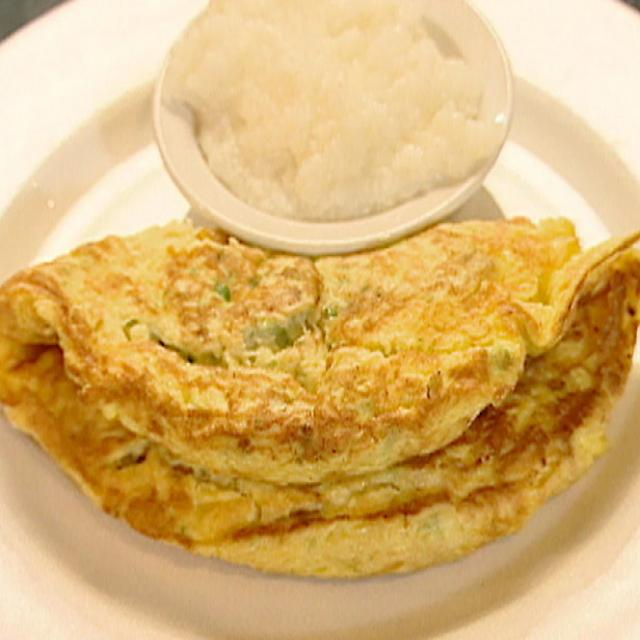鸡蛋料理: (0, 170, 640, 588)
